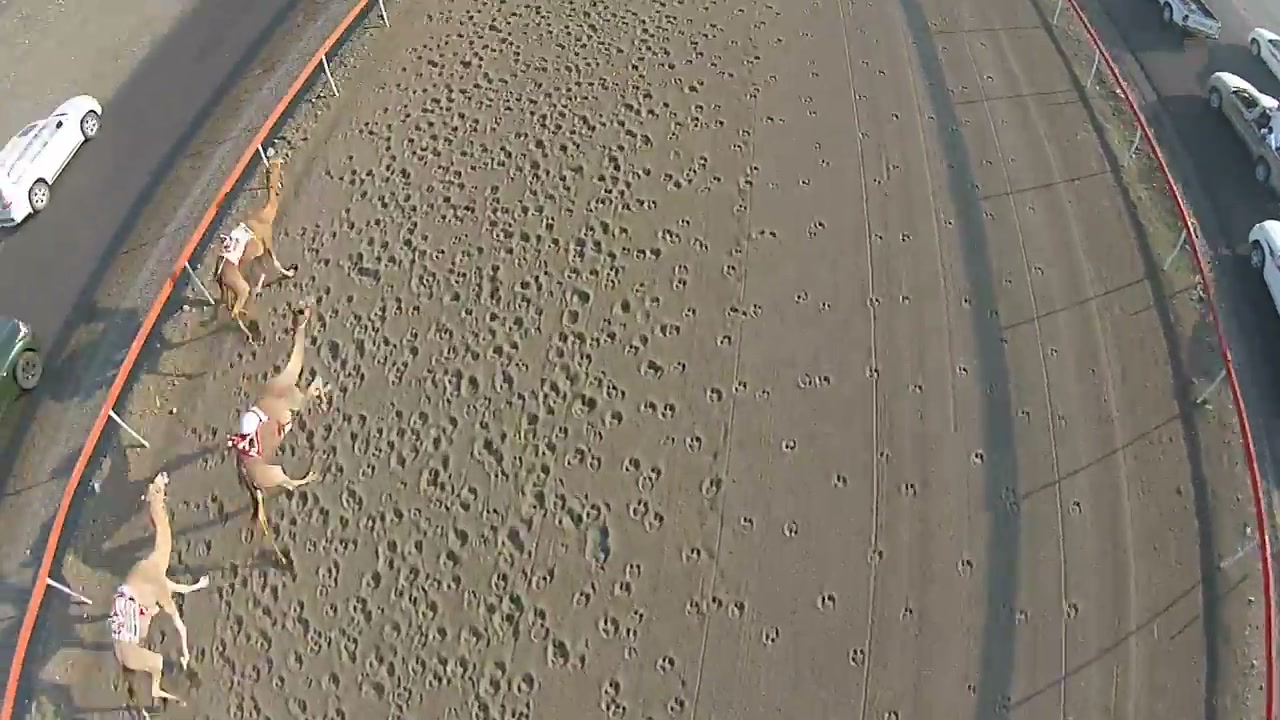animal_footprint: (168, 4, 720, 688)
